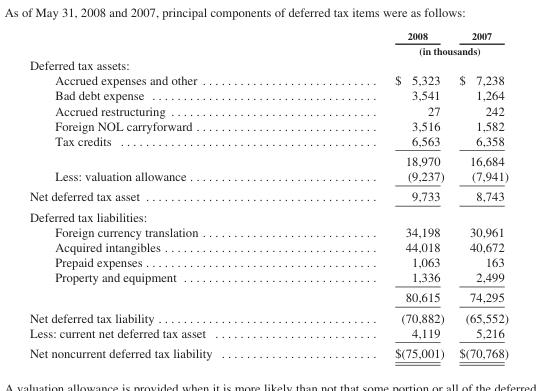table: (28, 29, 507, 359)
table column: (28, 29, 302, 359), (302, 29, 451, 359), (451, 29, 507, 359)
table column header: (28, 29, 507, 56)
table projected row header: (28, 206, 507, 223), (28, 56, 507, 72)
table row: (28, 186, 507, 206), (28, 287, 507, 307), (28, 132, 507, 150), (28, 150, 507, 168), (28, 168, 507, 186), (28, 269, 507, 287), (28, 324, 507, 342), (28, 206, 507, 223), (28, 307, 507, 324), (28, 342, 507, 359), (28, 56, 507, 72), (28, 223, 507, 239), (28, 72, 507, 87), (28, 87, 507, 102), (28, 102, 507, 117), (28, 117, 507, 132), (28, 239, 507, 254), (28, 254, 507, 269), (28, 42, 507, 56), (28, 29, 507, 42)
table spanning cell: (302, 42, 507, 56)
